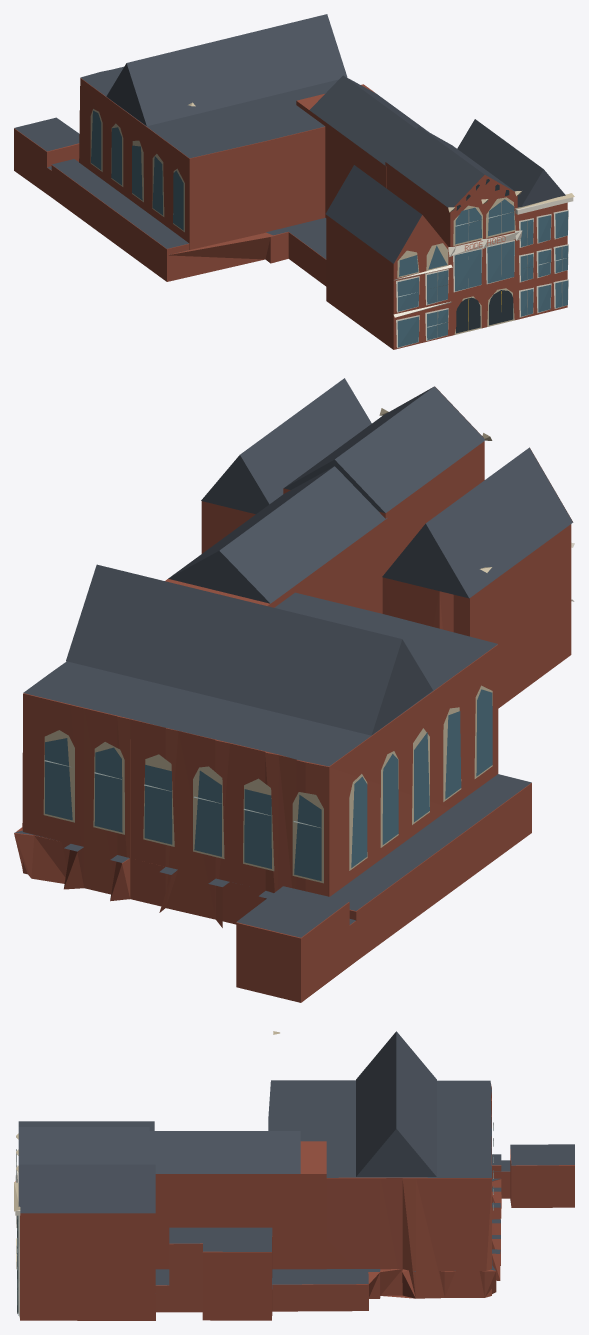
File: rode-hoed.lod1.glb
3 renders of one model, top to bottom at view 1: azimuth 30°, elevation 25°; view 2: azimuth 150°, elevation 25°; view 3: azimuth 270°, elevation 25°, orthographic. The views are drawn at different scales.
Visible parts, largest first — view 1: rode-hoed; view 2: rode-hoed; view 3: rode-hoed.
Part boxes in pixels (<box>): rode-hoed: <box>14,14,574,349</box>; rode-hoed: <box>14,378,574,1002</box>; rode-hoed: <box>14,1031,574,1320</box>.
Size of the model in its own units: 29.06 by 16.8 by 50.7.
